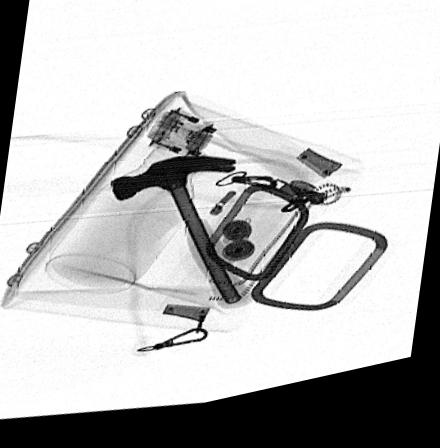Hammer: (107, 162, 255, 319)
